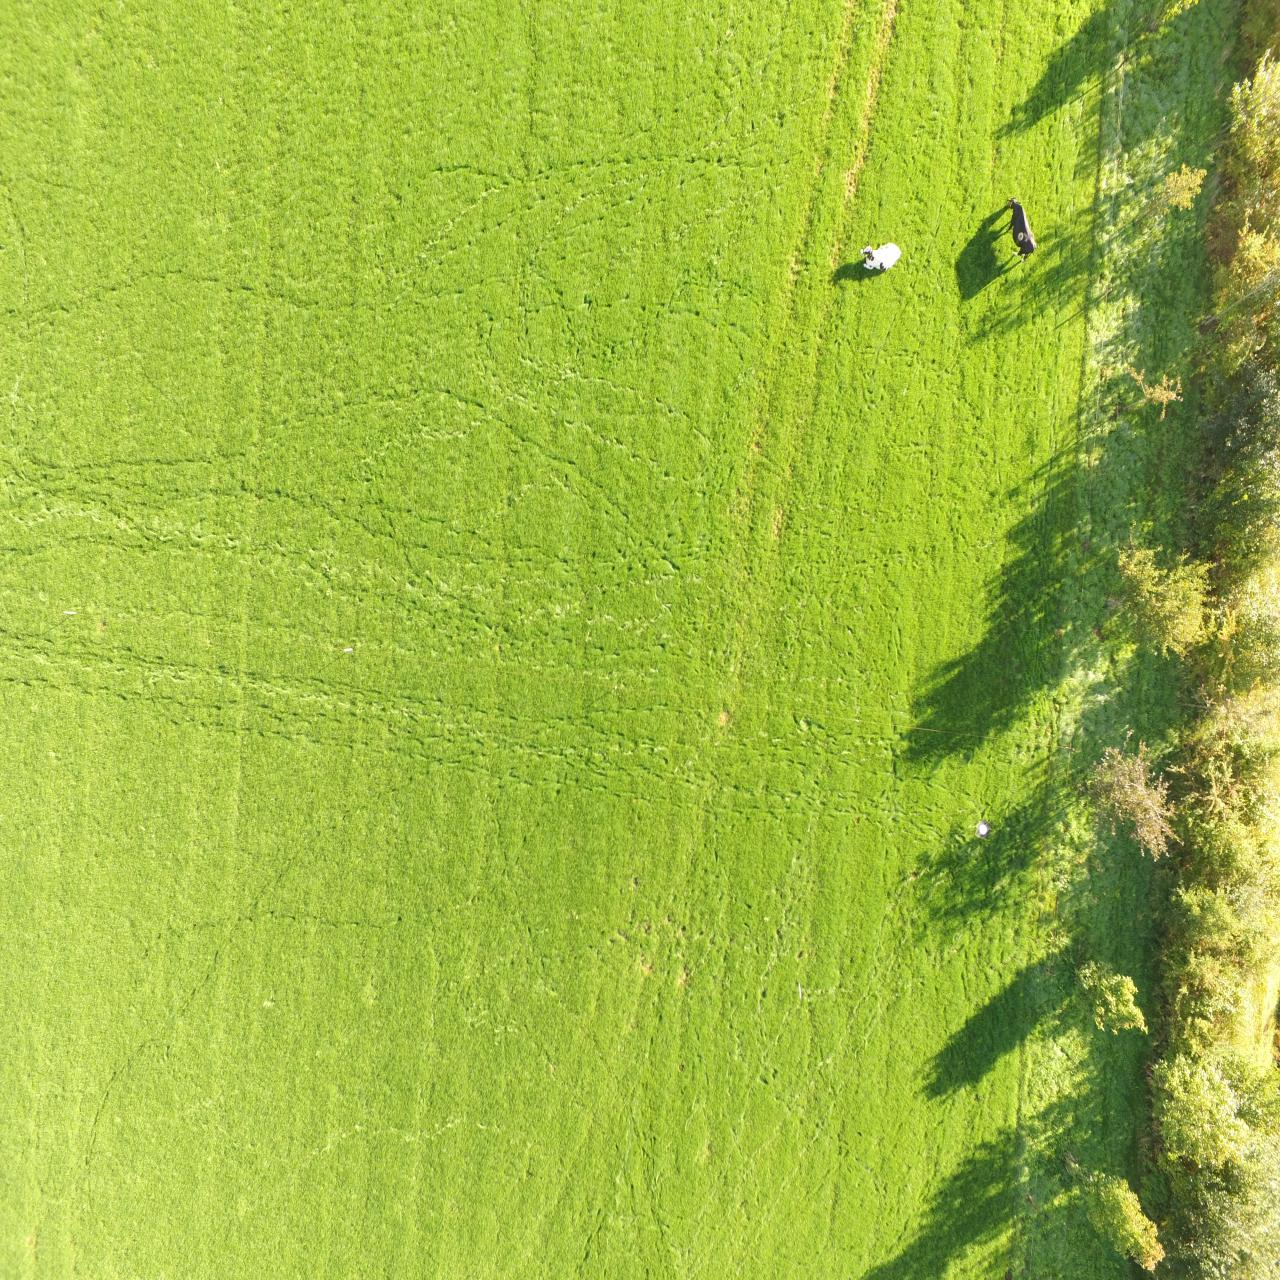cow: (1008, 196, 1036, 264), (859, 243, 903, 273)
